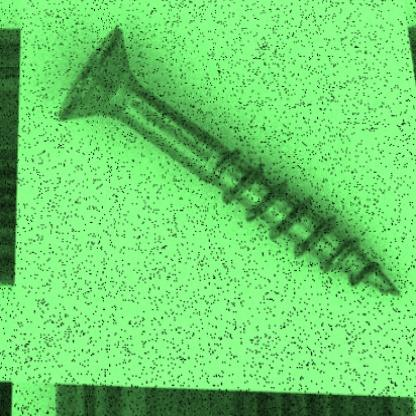metal: (53, 24, 399, 297)
